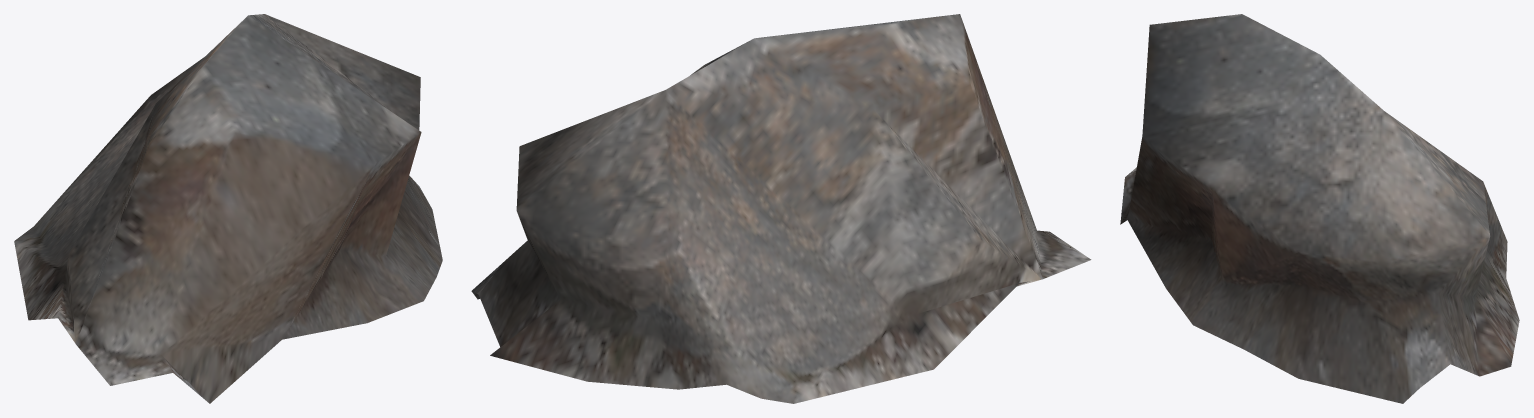
Rendered from forest_rock_03.glb.
3 views of the same model, side by side, from view 1: azimuth 30°, elevation 25°; view 2: azimuth 150°, elevation 25°; view 3: azimuth 270°, elevation 25° (orthographic). The views are drawn at different scales.
Visible parts, largest first — view 1: Rocks.002_Rocks_0; view 2: Rocks.002_Rocks_0; view 3: Rocks.002_Rocks_0.
Boxes of the visible parts, x1=… form: Rocks.002_Rocks_0: x1=14, y1=14, x2=442, y2=403; Rocks.002_Rocks_0: x1=471, y1=14, x2=1091, y2=403; Rocks.002_Rocks_0: x1=1120, y1=14, x2=1519, y2=403.
Bounding box in the file's own units: 1.02 × 0.6 × 0.8541.
1 material, 1 textured.
